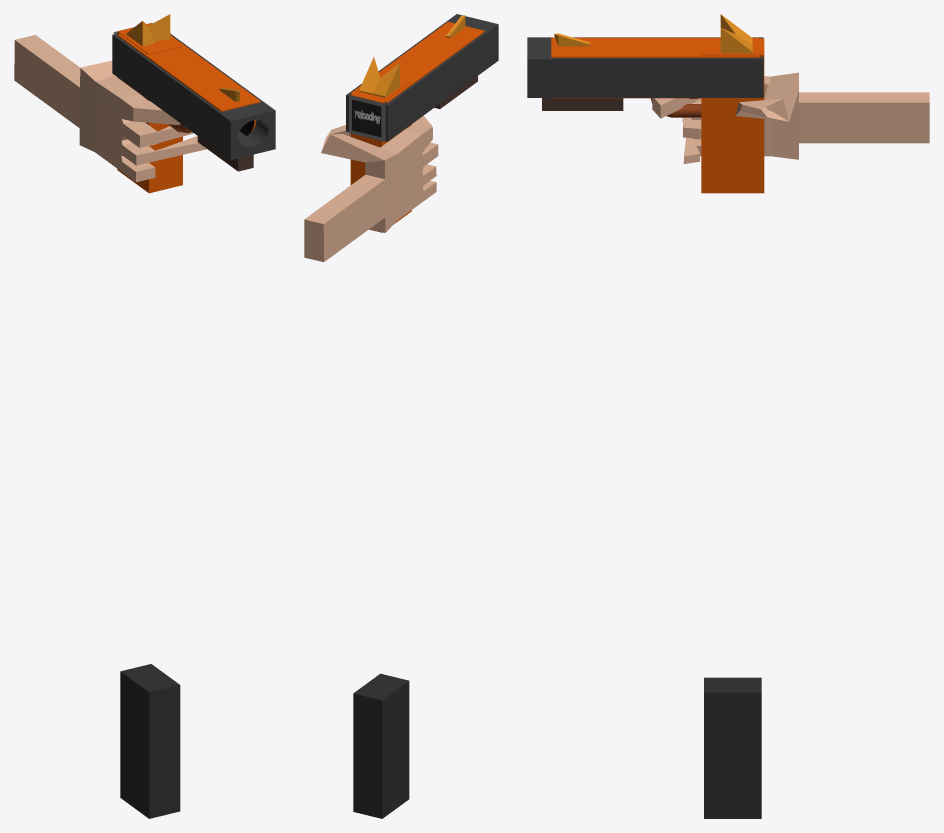
File: gun pistol realoading frame 4.fbx
The picture shows the model from 3 angles, left to right: view 1: azimuth 30°, elevation 25°; view 2: azimuth 150°, elevation 25°; view 3: azimuth 270°, elevation 25°; orthographic projection. The views are drawn at different scales.
Visible parts, largest first — view 1: Cube, Cube.004, Cube.005, Cube.001, Cube.002, Cube.006, Cube.003; view 2: Cube, Cube.004, Cube.005, Cube.001, Cube.006, Cube.002, Plane.001, Plane; view 3: Cube, Cube.005, Cube.004, Cube.002, Cube.001, Cube.003, Cube.006.
Part boxes in pixels (box(x1,y1,x2,y2)): Cube: box(14, 35, 206, 182); Cube.004: box(120, 664, 180, 818); Cube.005: box(112, 33, 275, 159); Cube.001: box(117, 34, 260, 131); Cube.002: box(117, 23, 182, 193); Cube.006: box(126, 14, 170, 46); Cube.003: box(197, 136, 253, 171); Cube: box(304, 115, 438, 261); Cube.004: box(353, 673, 409, 818); Cube.005: box(346, 14, 498, 141); Cube.001: box(350, 22, 484, 103); Cube.006: box(359, 57, 399, 97); Cube.002: box(350, 73, 411, 232); Plane.001: box(352, 99, 381, 137); Plane: box(349, 95, 385, 141); Cube: box(652, 72, 929, 163); Cube.005: box(527, 37, 763, 97); Cube.004: box(704, 677, 761, 818); Cube.002: box(701, 38, 764, 193); Cube.001: box(551, 37, 759, 98); Cube.003: box(542, 98, 623, 110); Cube.006: box(720, 14, 752, 53).
Size of the model in its own units: 159 by 1514 by 698.
Materials: 10 (1 with a texture image).
